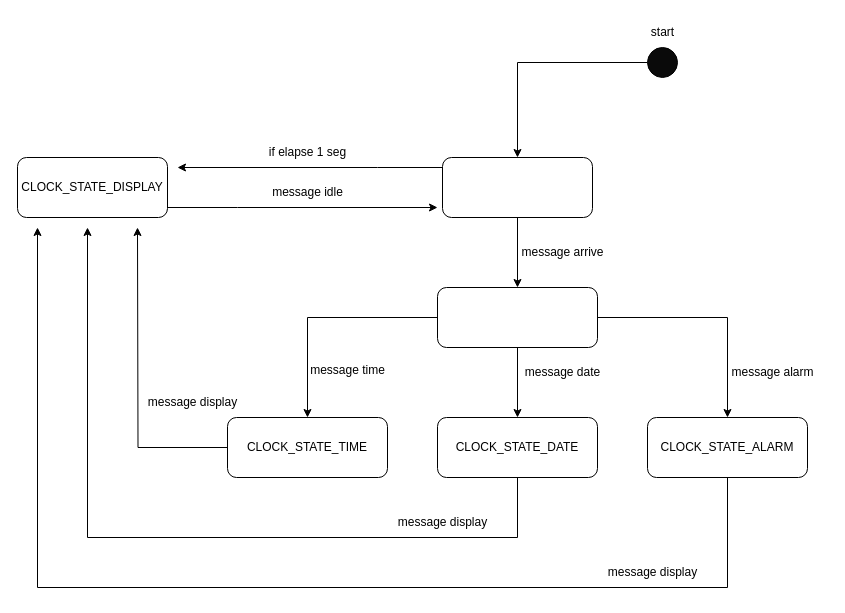
The diagram is 845 pixels wide and 613 high, and some of its shapes have lost their labels. Here are the shapes that lost their labels. From the top down, the centre of each, then its label:
(517,187): CLOCK_STATE_IDLE
(517,317): CLOCK_STATE_MESSAGE
